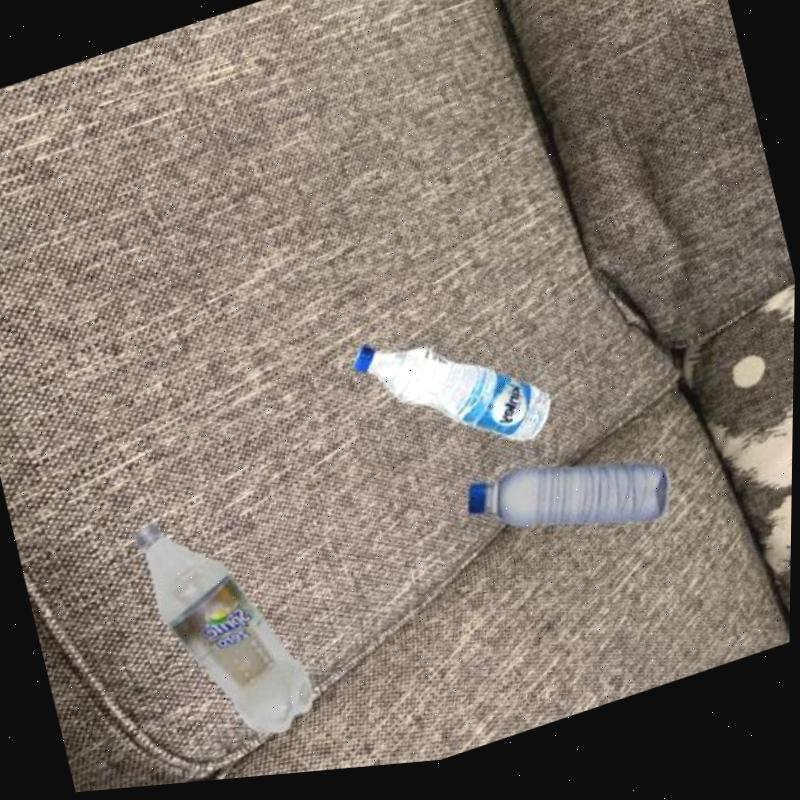botella: (126, 481, 327, 776), (349, 296, 564, 500), (457, 427, 680, 587)
